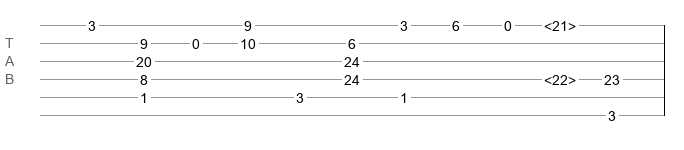0: (192, 36, 200, 46), (504, 18, 512, 28)
1: (140, 90, 148, 100), (400, 90, 408, 100)
10: (240, 36, 256, 46)
20: (136, 54, 152, 64)
23: (604, 72, 620, 82)
24: (344, 54, 360, 64), (344, 72, 360, 82)
3: (88, 18, 96, 28), (296, 90, 304, 100), (400, 18, 408, 28), (608, 108, 616, 118)
6: (348, 36, 356, 46), (452, 18, 460, 28)
8: (140, 72, 148, 82)
9: (140, 36, 148, 46), (244, 18, 252, 28)
harmonic: (544, 72, 576, 82), (544, 18, 576, 28)
